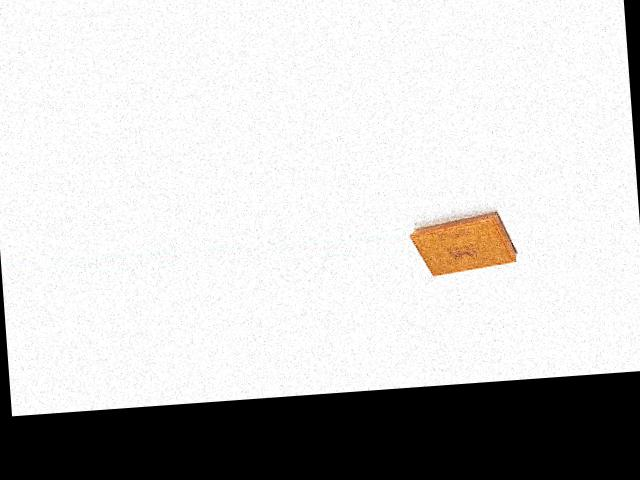chocolate: (408, 201, 521, 280)
